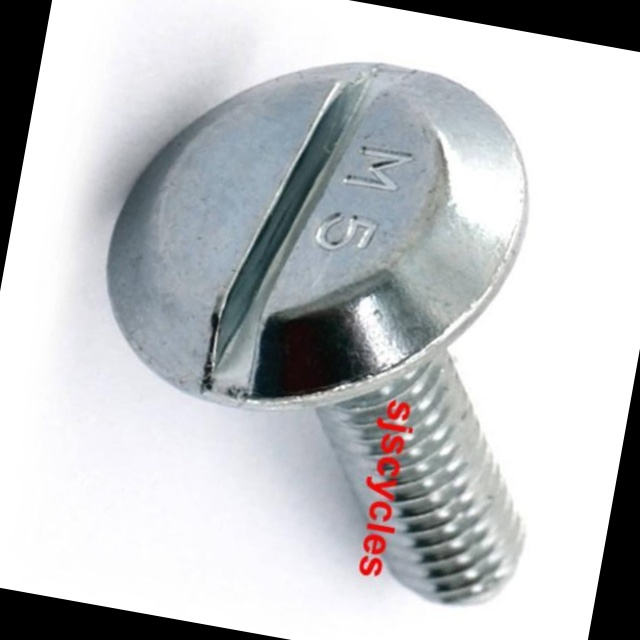duz: (85, 16, 552, 451)
